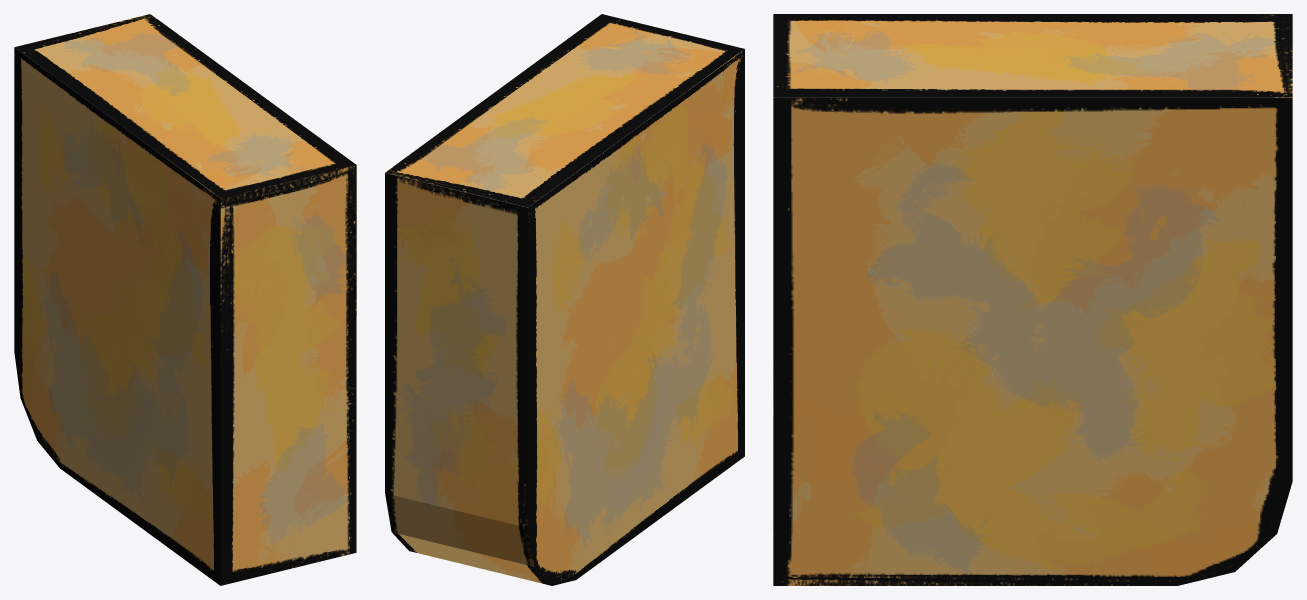
File: 1-RoofTop1.fbx
3 views of the same model, side by side, from view 1: azimuth 30°, elevation 25°; view 2: azimuth 150°, elevation 25°; view 3: azimuth 270°, elevation 25° (orthographic). The views are drawn at different scales.
Parts seen in each view (by area): view 1: Cube.017; view 2: Cube.017; view 3: Cube.017.
Boxes of the visible parts, <box> form: Cube.017: <box>14,14,356,585</box>; Cube.017: <box>385,14,744,585</box>; Cube.017: <box>773,14,1292,585</box>.
Bounding box in the file's own units: 55.07 × 150 × 144.
1 material, 1 textured.
